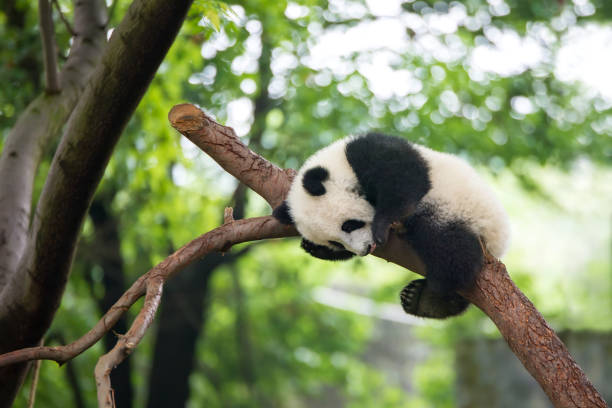panda: (264, 128, 401, 289)
